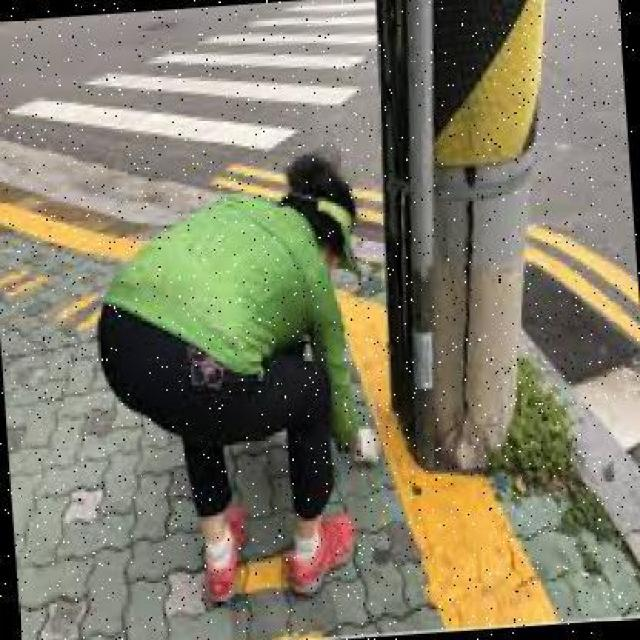-: (87, 155, 390, 613)
